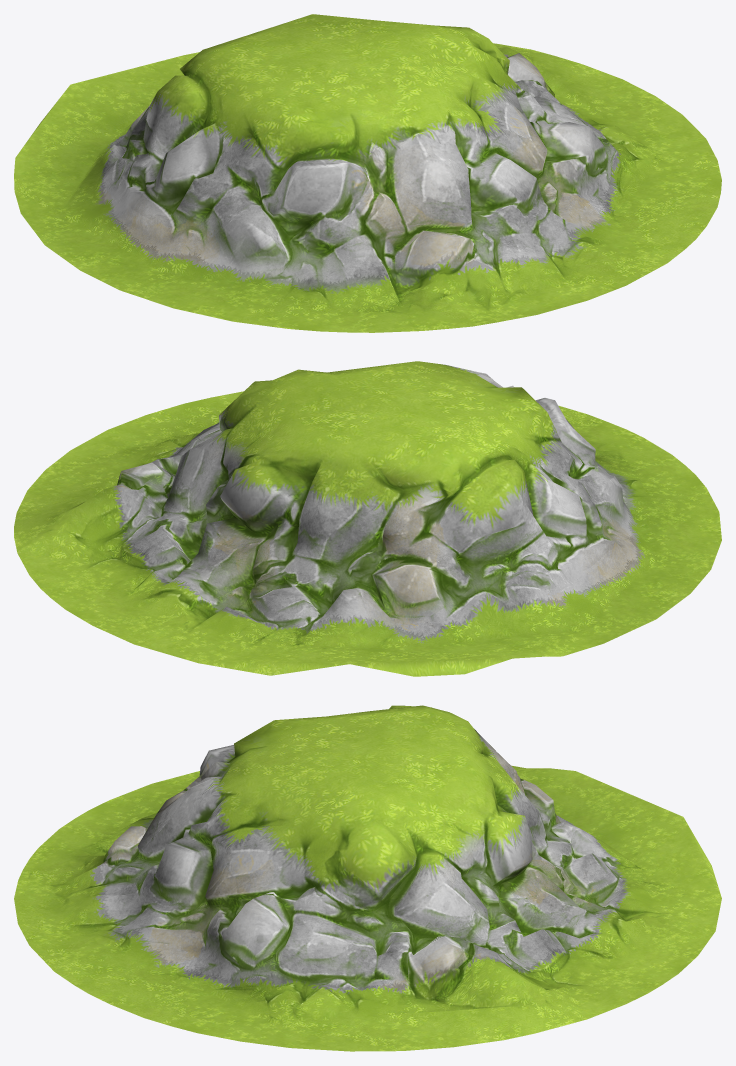
Rendered from mini_hill_1.glb.
The picture shows the model from 3 angles, top to bottom: view 1: azimuth 30°, elevation 25°; view 2: azimuth 150°, elevation 25°; view 3: azimuth 270°, elevation 25°; orthographic projection.
Parts seen in each view (by area): view 1: Plane; view 2: Plane; view 3: Plane.
Boxes of the visible parts, x1,y1,x2,y2 form: Plane: (14,14,721,332); Plane: (14,361,721,676); Plane: (14,705,721,1051).
Bounding box in the file's own units: 10.92 × 2.44 × 10.95.
1 material, 1 textured.
